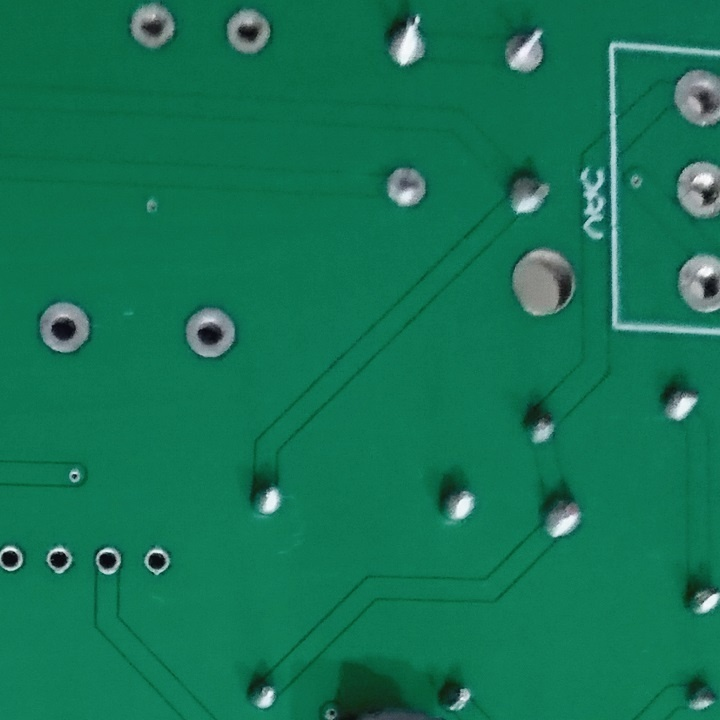F: (31, 302, 98, 359), (667, 61, 720, 132), (496, 23, 552, 82), (670, 155, 720, 219), (673, 250, 720, 318), (124, 1, 181, 55), (184, 307, 241, 360), (221, 5, 273, 55), (383, 162, 433, 213), (141, 543, 176, 583), (93, 543, 127, 578), (43, 544, 77, 578), (1, 542, 30, 575)
